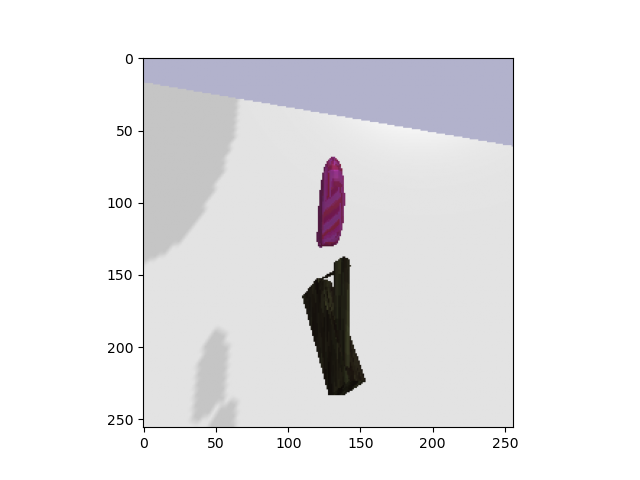v249b387_105: (312, 154, 350, 251)
v249b387_109: (299, 255, 372, 401)
